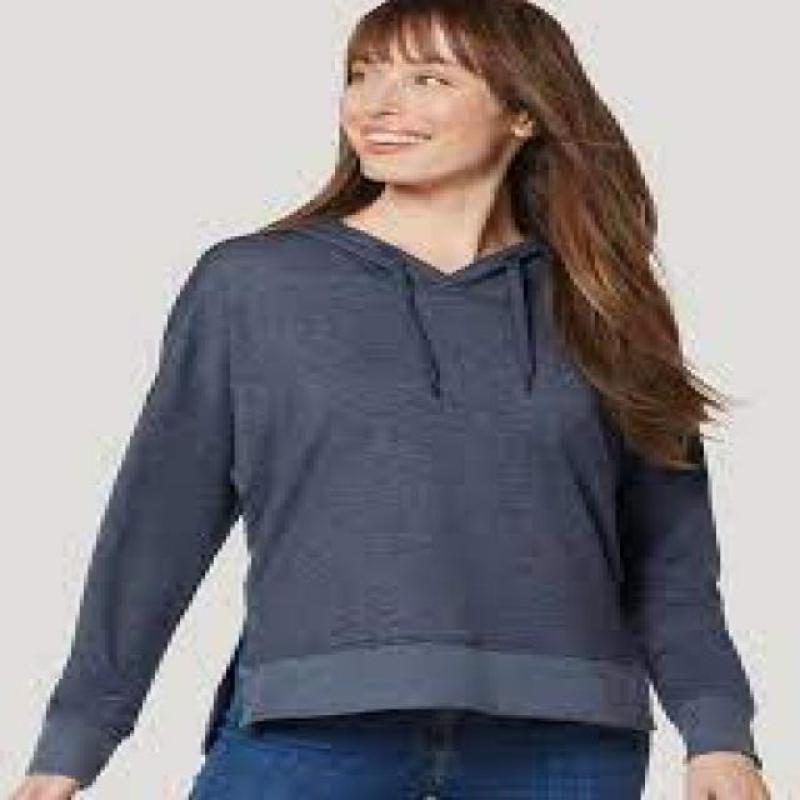sweater: (20, 214, 766, 788)
trousers: (184, 700, 652, 800)
